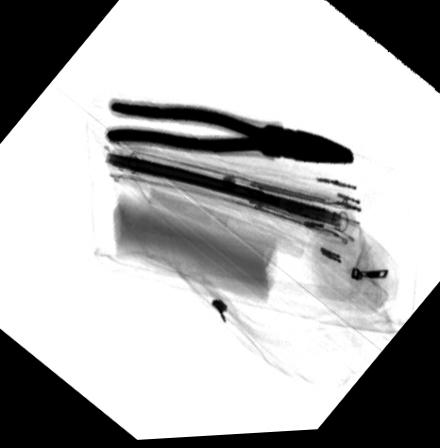Pliers: (102, 99, 356, 169)
